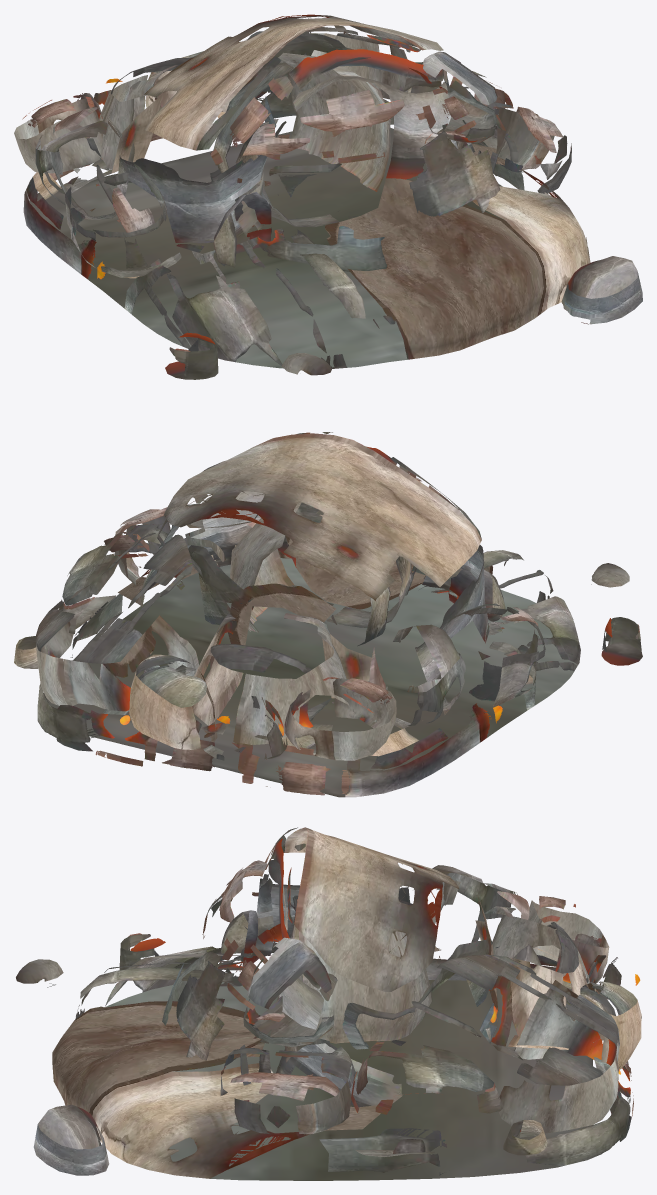
3 views of the same model, one above another, from view 1: azimuth 30°, elevation 25°; view 2: azimuth 150°, elevation 25°; view 3: azimuth 270°, elevation 25° (orthographic). The views are drawn at different scales.
Parts seen in each view (by area): view 1: SM_Kiln_01_LOD0; view 2: SM_Kiln_01_LOD0; view 3: SM_Kiln_01_LOD0.
Boxes of the visible parts, x1,y1,x2,y2 form: SM_Kiln_01_LOD0: [14, 14, 642, 379]; SM_Kiln_01_LOD0: [14, 432, 642, 797]; SM_Kiln_01_LOD0: [16, 827, 641, 1180].
Size of the model in its own units: 1.43 by 0.6945 by 1.66.
